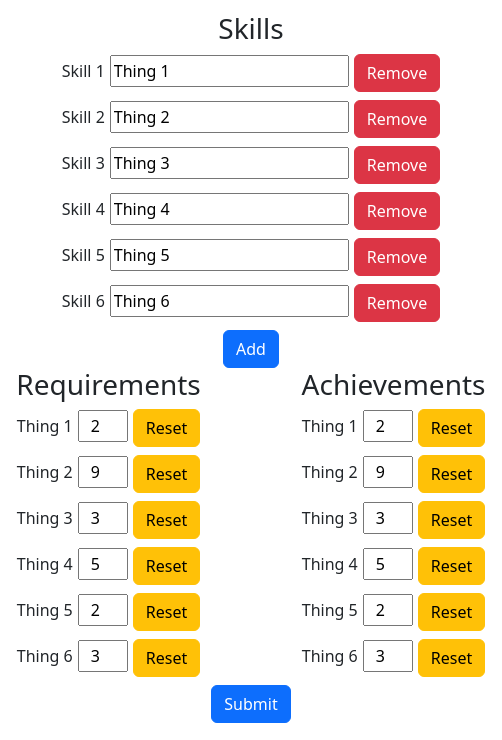
Test: Testing App() Component › should reset requirements
Click the 1st button with test id "resetRequirement-button": (167, 428) [133,409,200,447]
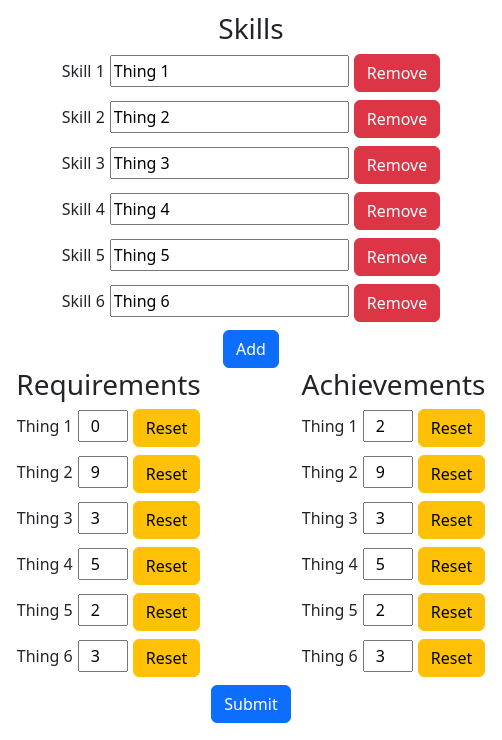
Check: the 1st number field with test id "requirement-input" holds "0", box [78,410,128,442]
